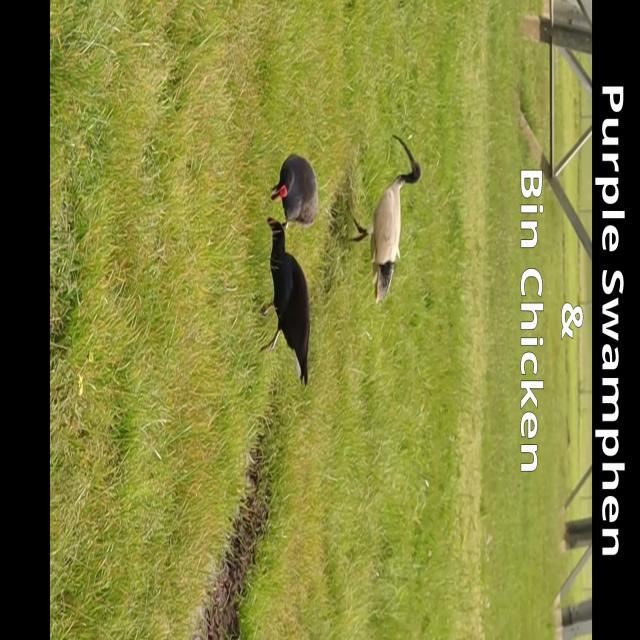Birds-Ibis: (342, 132, 423, 308)
Birds-Other: (253, 219, 312, 388), (268, 152, 319, 232)
